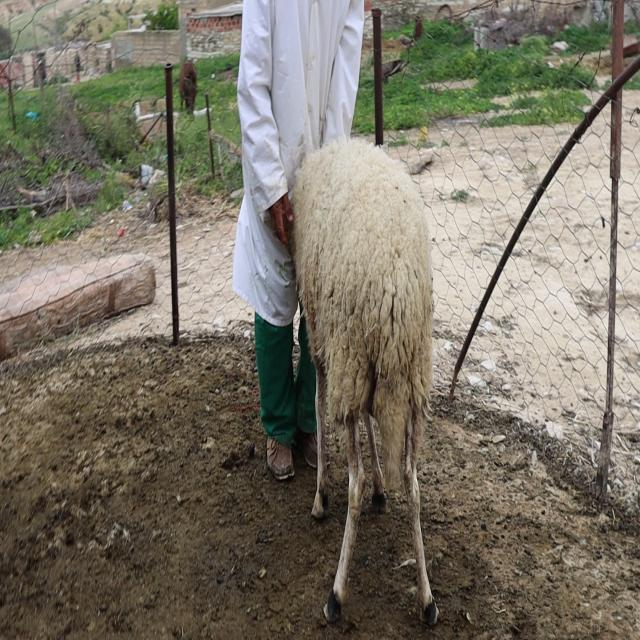Score_3: (291, 138, 438, 624)
